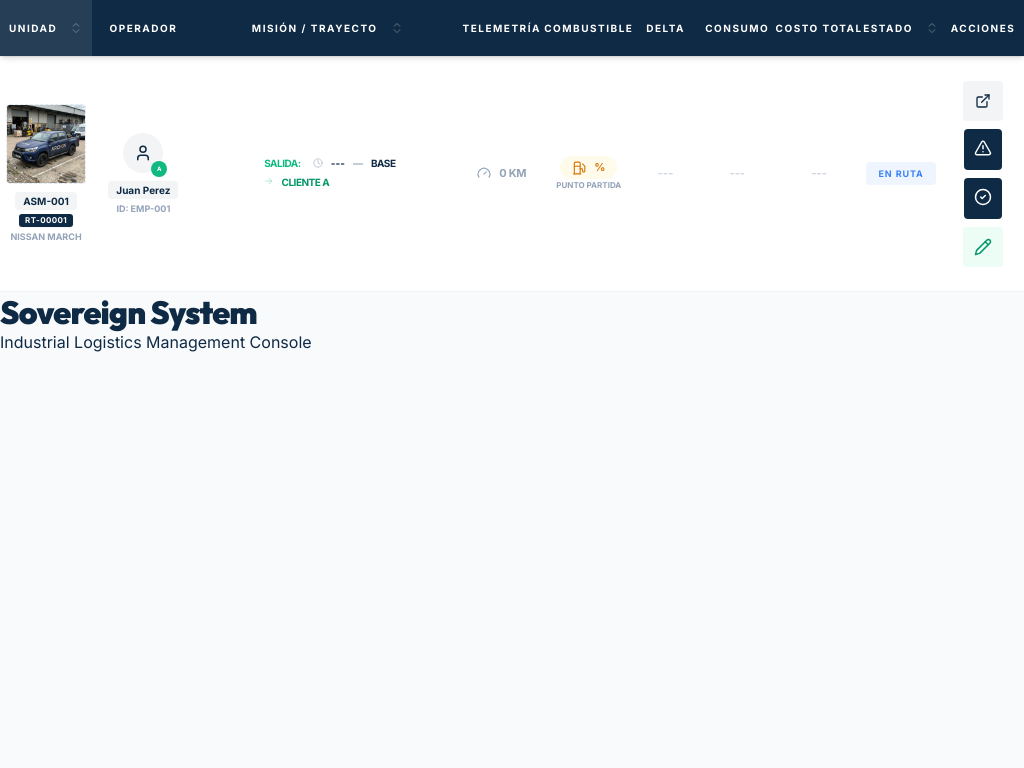
Test: RouteLogTable — incident report success flow (207_AN Bravo reopen) › closes the incident form and refreshes the log list once the report succeeds
This screenshot has width=1024, height=768.
Step 1. Click the button titled "Reportar Incidencia" → {"x": 983, "y": 149}, box [964, 128, 1002, 170]
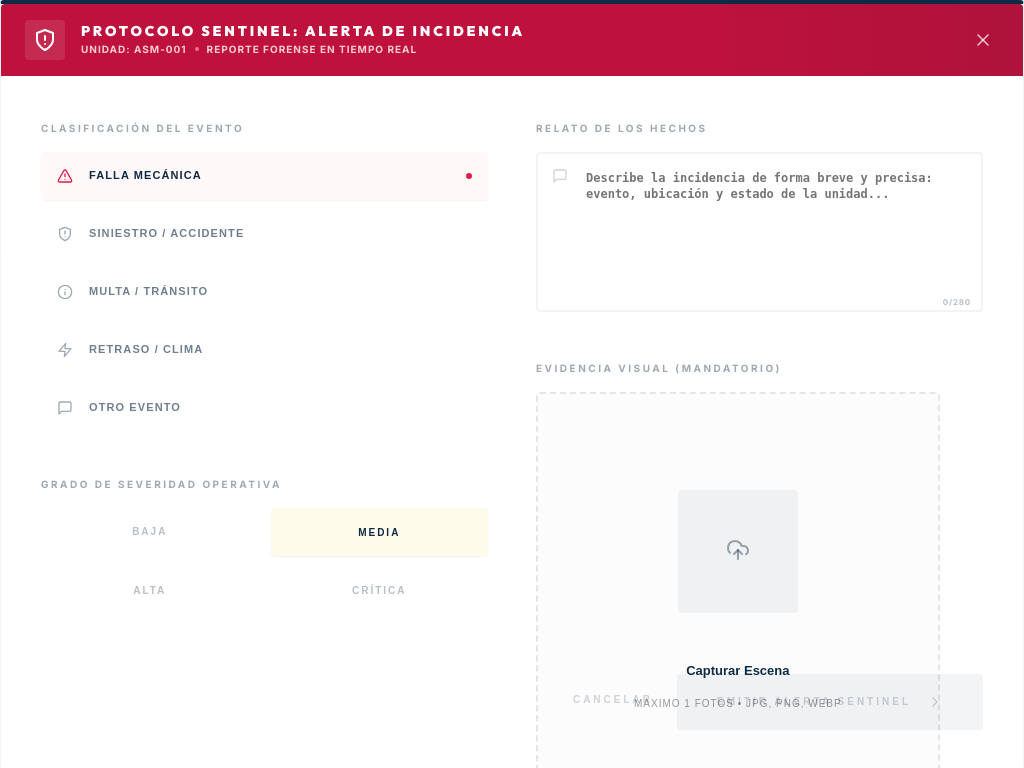
Result: the heading "Protocolo Sentinel: Alerta de Incidencia" is shown at [81, 24, 525, 38]
Step 2. Replace the text in the text box with placeholder "Describe la incidencia" with "Falla de frenos detectada en ruta." → {"x": 760, "y": 232}, box [536, 152, 983, 312]
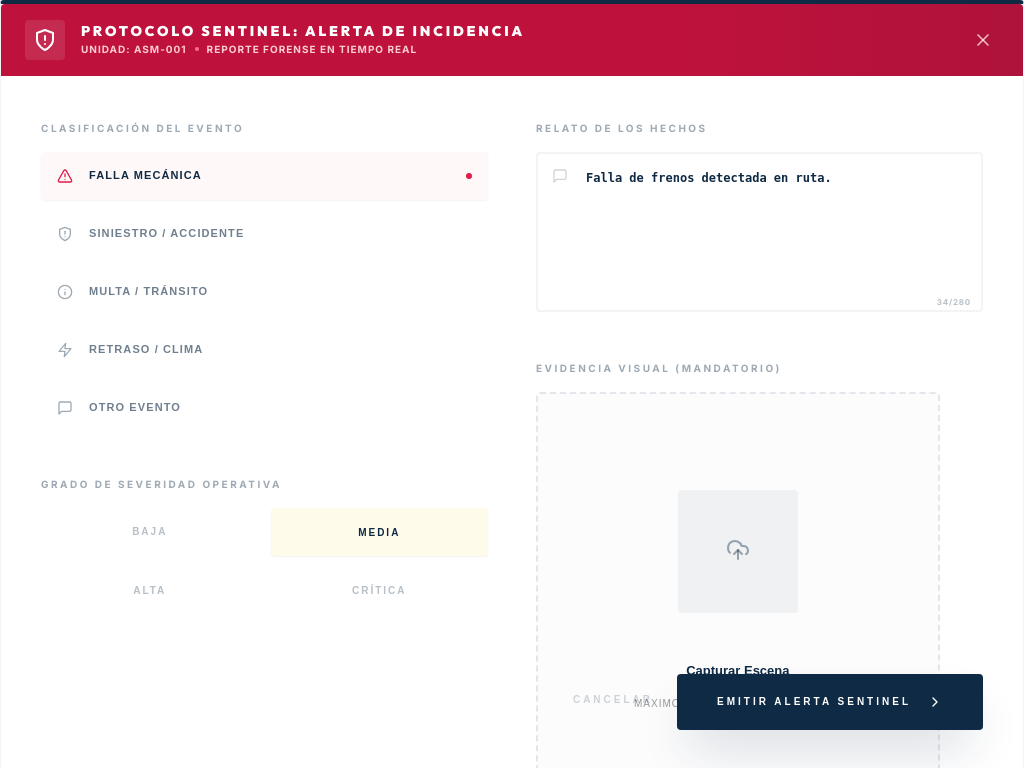
Step 3. Click the button "Emitir Alerta Sentinel" → {"x": 830, "y": 702}, box [677, 674, 983, 730]
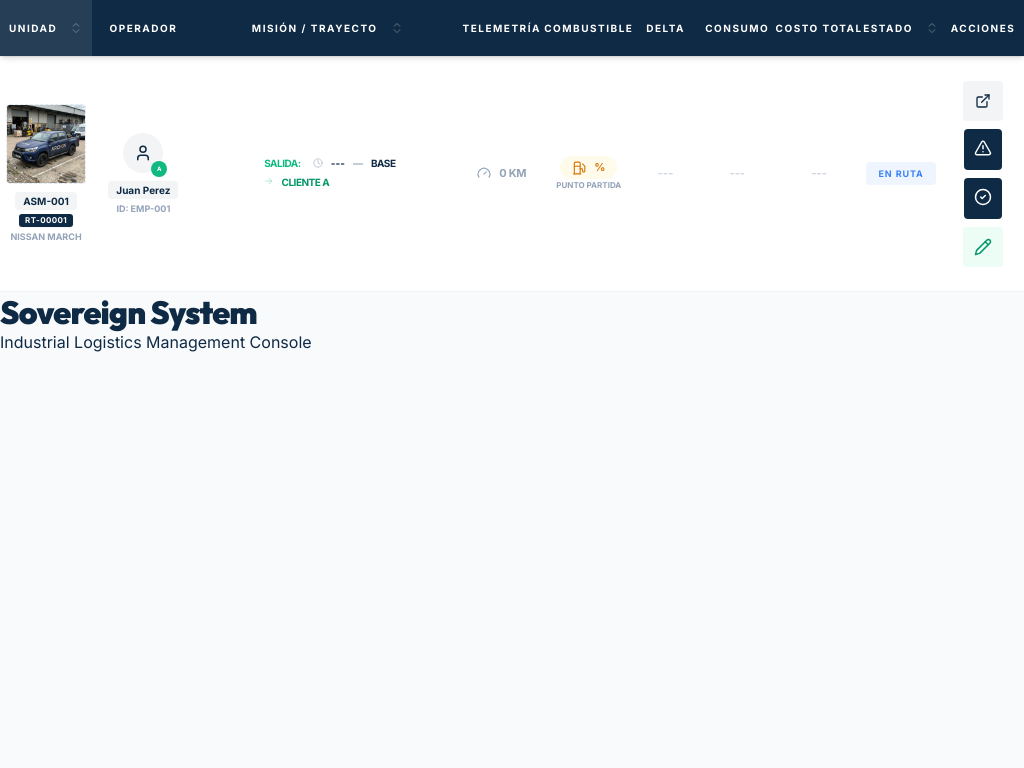
Result: the table with test id "archon-route-log-table" is shown at [0, 0, 1023, 292]
